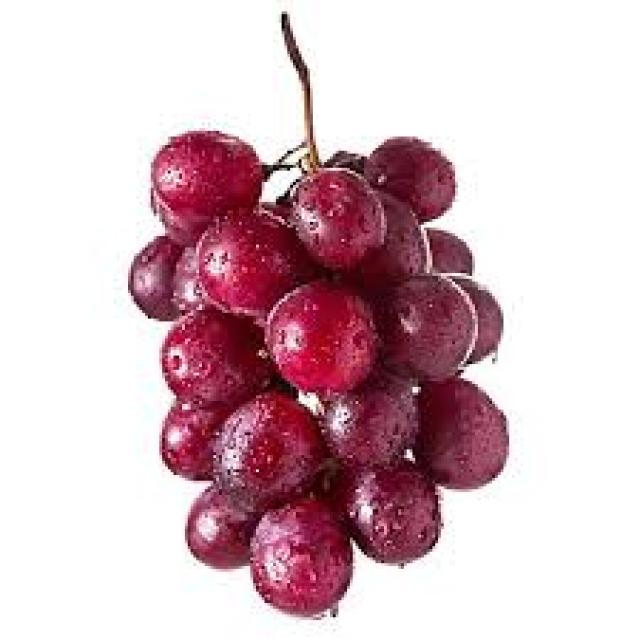Grapes: (270, 299, 384, 402), (220, 412, 330, 514), (151, 138, 259, 228), (348, 467, 449, 563), (256, 509, 347, 615), (287, 173, 388, 262), (380, 289, 473, 379), (432, 384, 514, 481), (215, 215, 293, 314), (175, 338, 278, 407), (330, 397, 422, 463), (376, 148, 453, 225), (166, 406, 235, 482), (142, 238, 203, 318), (196, 497, 259, 571)
